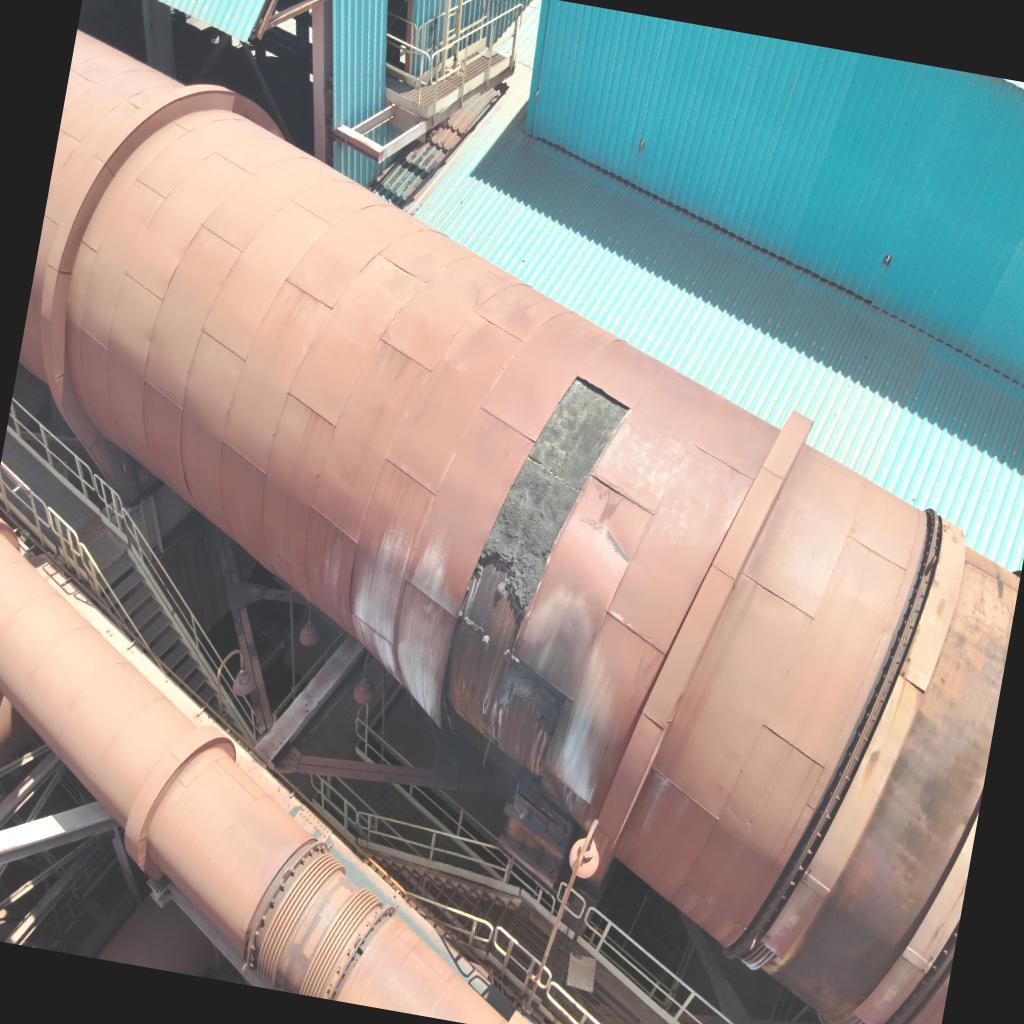Failures: (428, 362, 638, 768)
